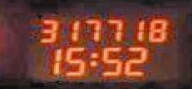1: (130, 15, 145, 41), (62, 18, 78, 42), (47, 46, 58, 75)
2: (120, 44, 147, 78)
3: (37, 16, 57, 44)
5: (62, 44, 85, 76), (99, 44, 120, 78)
7: (103, 15, 122, 40), (82, 16, 100, 41)
8: (147, 15, 167, 42)
X: (87, 48, 98, 69)
